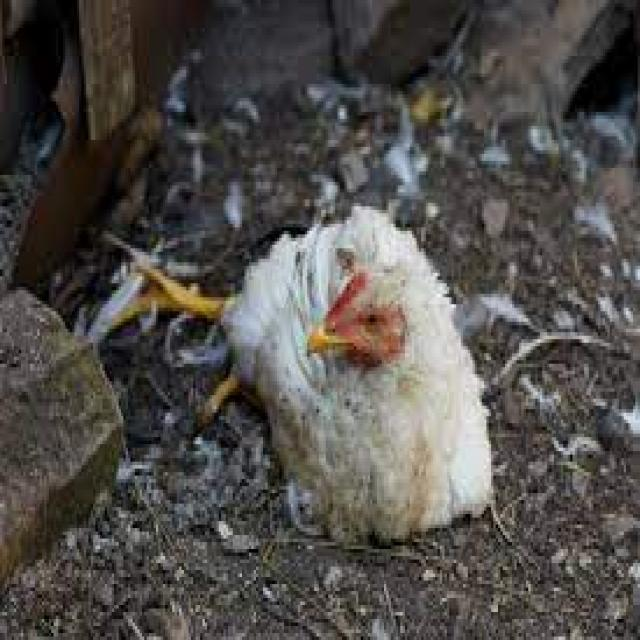abnormal chicken: (99, 192, 501, 538)
